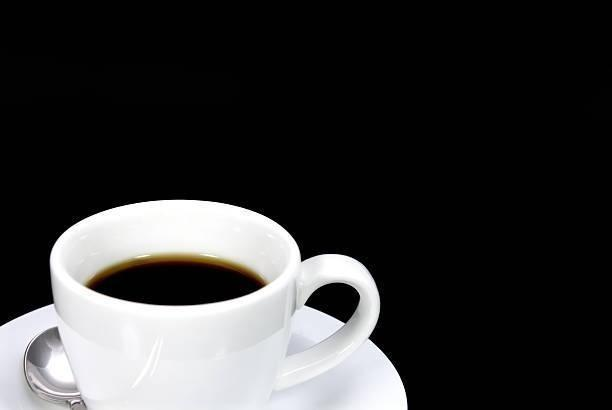cup-handle: (49, 197, 380, 409)
